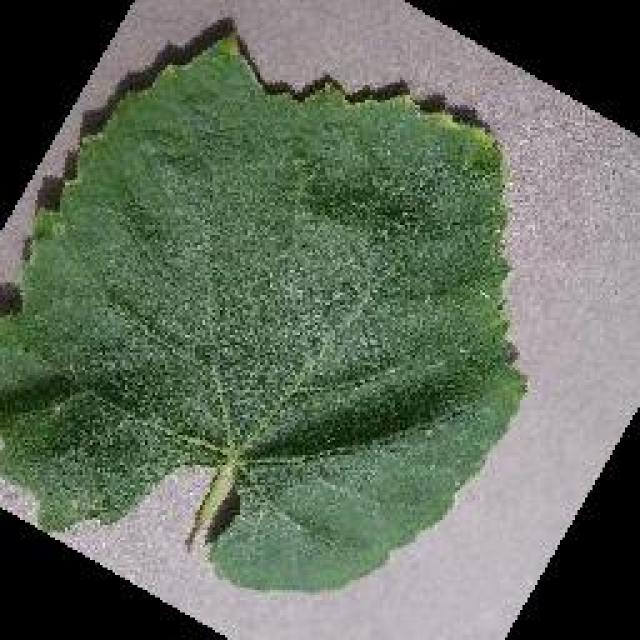Grape___healthy: (0, 40, 526, 600)
